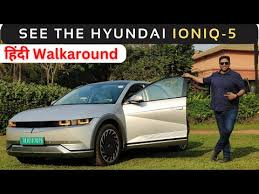Honda Ioniq: (6, 73, 193, 167)
